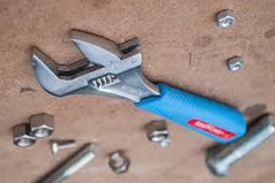Wrench: (23, 22, 250, 148)
